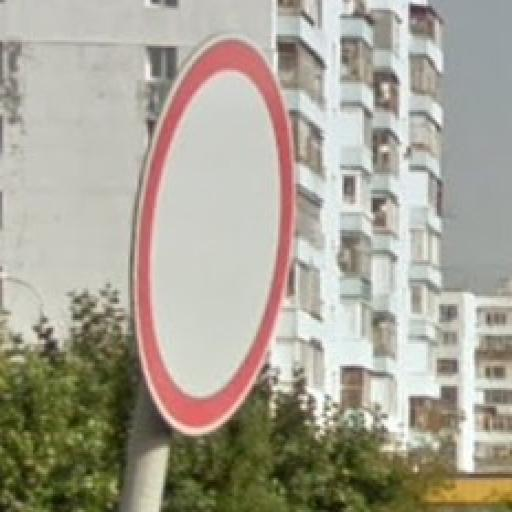traffic_sign: (131, 35, 297, 435)
